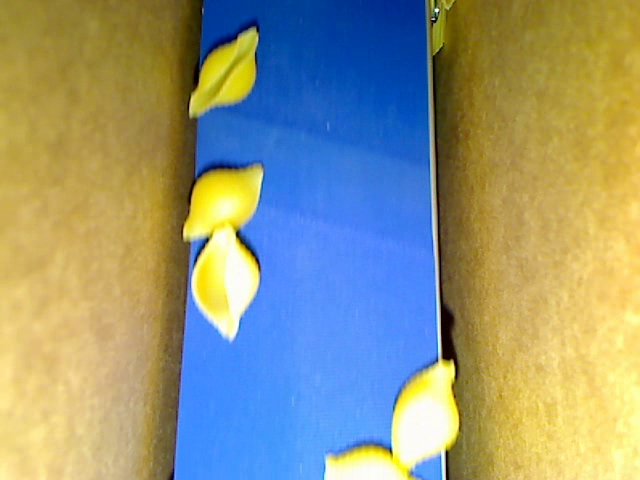penne: (426, 1, 443, 52)
shell: (389, 356, 461, 471), (193, 227, 258, 338), (185, 160, 265, 242), (184, 24, 259, 111), (319, 441, 423, 479)
